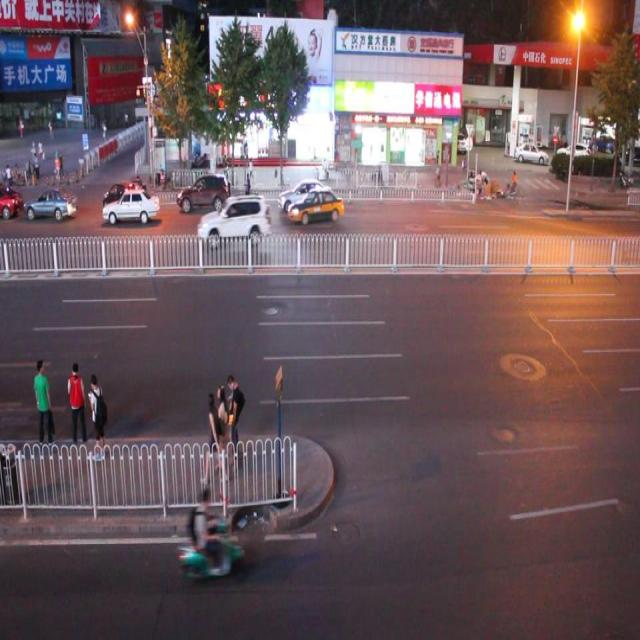car: (199, 194, 268, 244), (177, 171, 230, 209), (288, 187, 343, 223), (103, 189, 158, 223), (278, 178, 330, 211), (25, 189, 76, 221), (102, 177, 140, 214), (1, 182, 20, 220)
